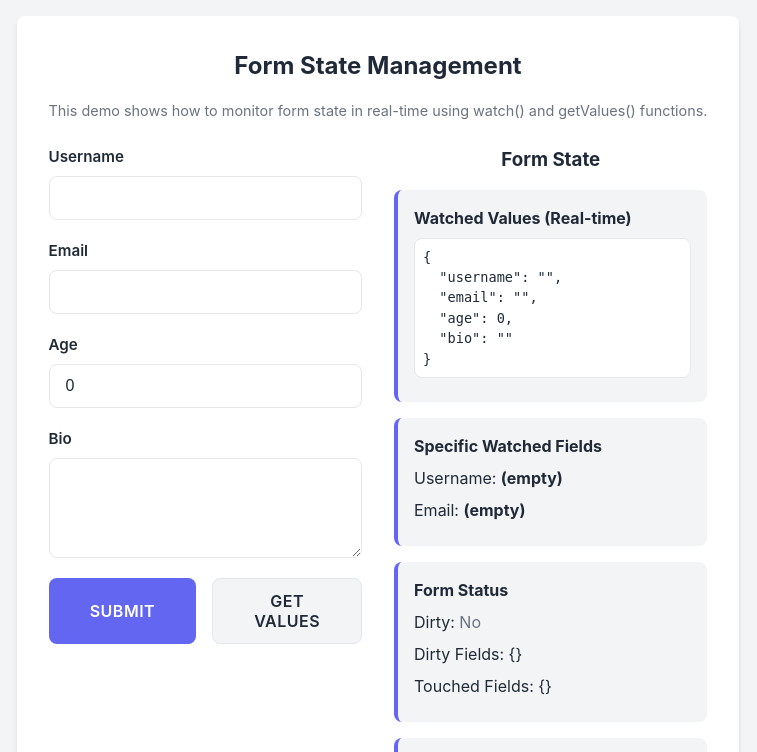
WatchDemo › shows validation error for invalid email format
Type "invalid-email" into the field labelled "Email".
click(205, 292); type("invalid-email")  # box top-left (48, 270), bottom-right (362, 314)
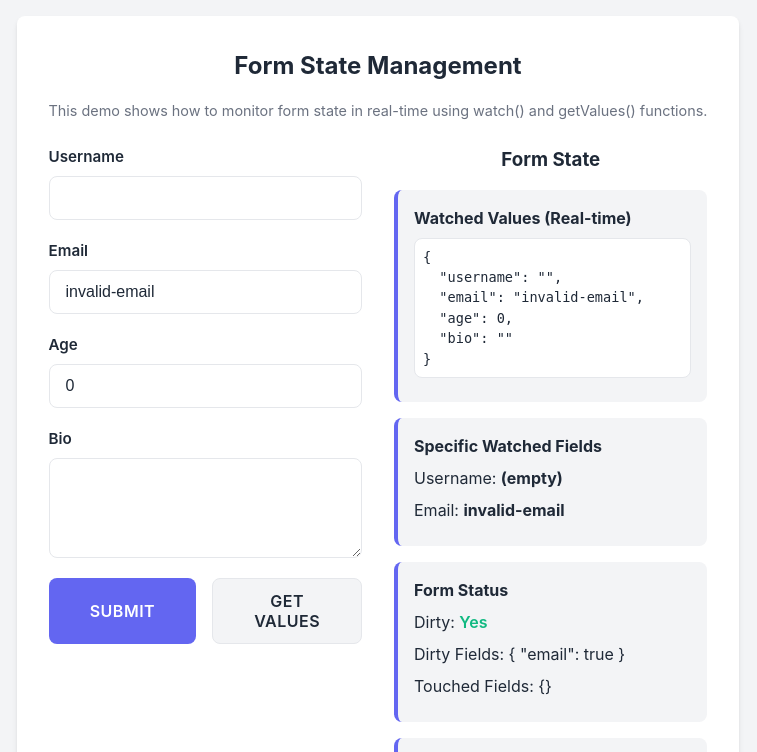
Leave the field labelled "Email", box top-left (48, 270), bottom-right (362, 314)
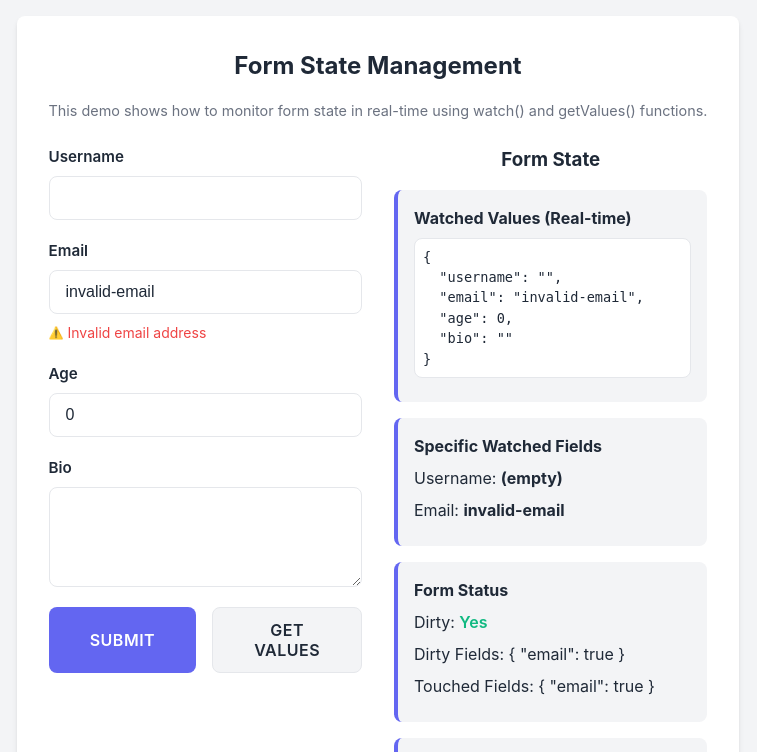
expect the text "Invalid email address" is shown: met, box top-left (68, 324), bottom-right (206, 341)
